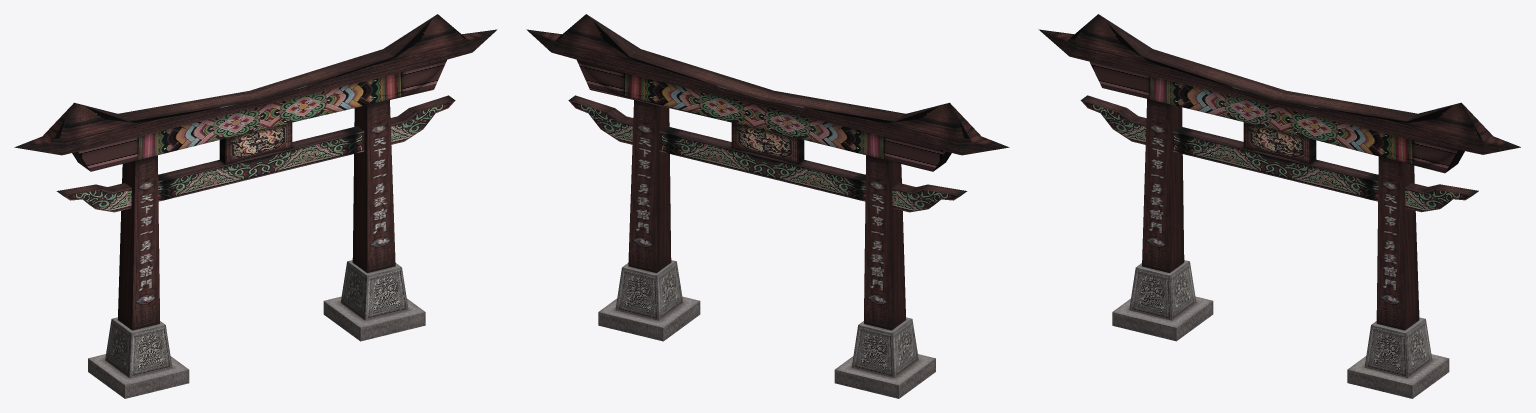
Rendered from ob-035-woodgate_lod_01.glb.
The picture shows the model from 3 angles, left to right: view 1: azimuth 30°, elevation 25°; view 2: azimuth 150°, elevation 25°; view 3: azimuth 330°, elevation 25°; orthographic projection.
Visible parts, largest first — view 1: ob-035-woodgate; view 2: ob-035-woodgate; view 3: ob-035-woodgate.
Boxes of the visible parts, bbox=[...] form: ob-035-woodgate: bbox=[14, 14, 497, 398]; ob-035-woodgate: bbox=[526, 14, 1009, 398]; ob-035-woodgate: bbox=[1038, 14, 1520, 398].
Bounding box in the file's own units: 14.4 × 8.27 × 1.91.
1 material, 1 textured.
